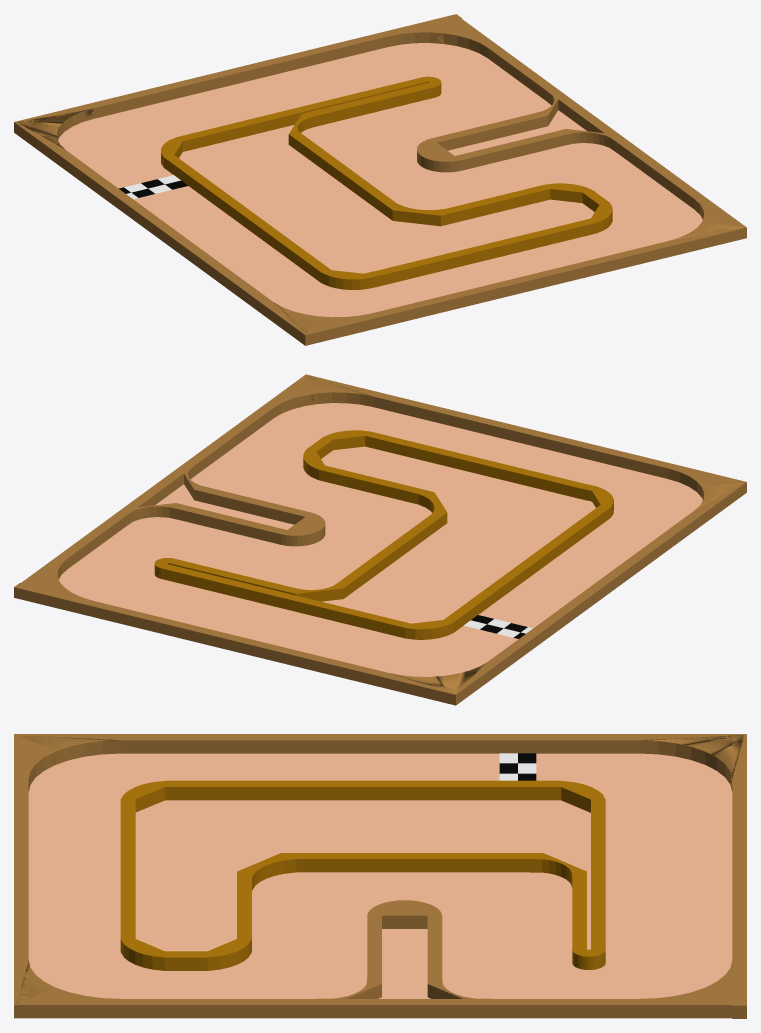
Rendered from testar.fbx.
3 views of the same model, one above another, from view 1: azimuth 30°, elevation 25°; view 2: azimuth 150°, elevation 25°; view 3: azimuth 270°, elevation 25° (orthographic). The views are drawn at different scales.
Parts seen in each view (by area): view 1: Plane.050, PE3.087, CurvasInts, CurvaExtra, CantosExts.002, CantosExts.003, CantosExts, meta, CantosExts.001; view 2: Plane.050, PE3.087, CurvasInts, CurvaExtra, CantosExts, CantosExts.001, CantosExts.002, CantosExts.003, meta; view 3: Plane.050, PE3.087, CurvasInts, CurvaExtra, CantosExts.001, CantosExts.003, CantosExts.002, CantosExts, meta.
Part boxes in pixels (box(x1,y1,x2,y2)): Plane.050: box(58, 43, 702, 317); PE3.087: box(14, 14, 746, 345); CurvasInts: box(161, 76, 612, 289); CurvaExtra: box(417, 88, 621, 172); CantosExts.002: box(388, 15, 487, 57); CantosExts.003: box(17, 108, 92, 149); CantosExts: box(669, 199, 743, 240); meta: box(119, 175, 188, 199); CantosExts.001: box(274, 302, 371, 333); Plane.050: box(59, 403, 702, 676); PE3.087: box(14, 374, 746, 705); CurvasInts: box(154, 430, 613, 639); CurvaExtra: box(116, 464, 325, 546); CantosExts: box(273, 375, 373, 417); CantosExts.001: box(668, 468, 743, 509); CantosExts.002: box(19, 559, 91, 600); CantosExts.003: box(391, 662, 486, 693); meta: box(464, 615, 532, 638); Plane.050: box(28, 753, 732, 998); PE3.087: box(14, 734, 746, 1018); CurvasInts: box(120, 780, 605, 970); CurvaExtra: box(317, 900, 492, 1018); CantosExts.001: box(16, 735, 120, 791); CantosExts.003: box(640, 735, 744, 791); CantosExts.002: box(641, 960, 744, 1003); CantosExts: box(16, 960, 119, 1003); meta: box(499, 753, 536, 780).
Size of the model in its own units: 20886 by 490 by 23824.
